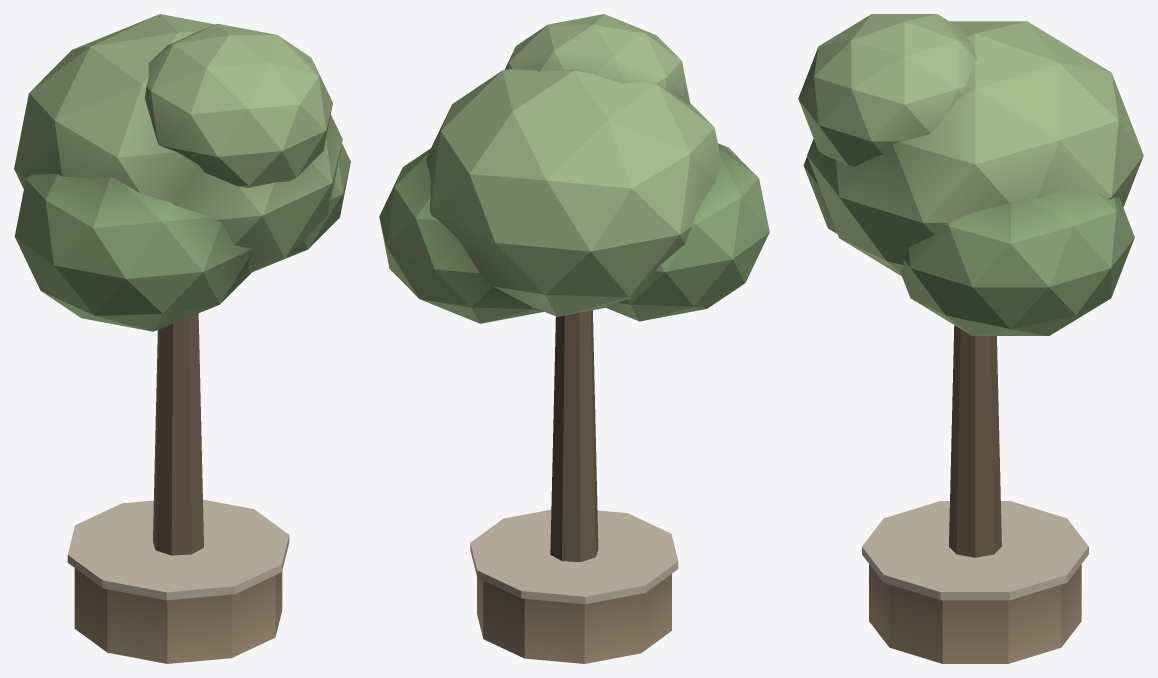
File: roof_yard_tree.glb
3 renders of one model, left to right at view 1: azimuth 30°, elevation 25°; view 2: azimuth 150°, elevation 25°; view 3: azimuth 270°, elevation 25°, orthographic. The views are drawn at different scales.
Parts seen in each view (by area): view 1: roof.yard_tree; view 2: roof.yard_tree; view 3: roof.yard_tree.
Boxes of the visible parts, x1,y1,x2,y2 form: roof.yard_tree: [14, 14, 350, 663]; roof.yard_tree: [379, 14, 769, 663]; roof.yard_tree: [798, 14, 1143, 663].
Bounding box in the file's own units: 2.2 × 3.78 × 1.95.
